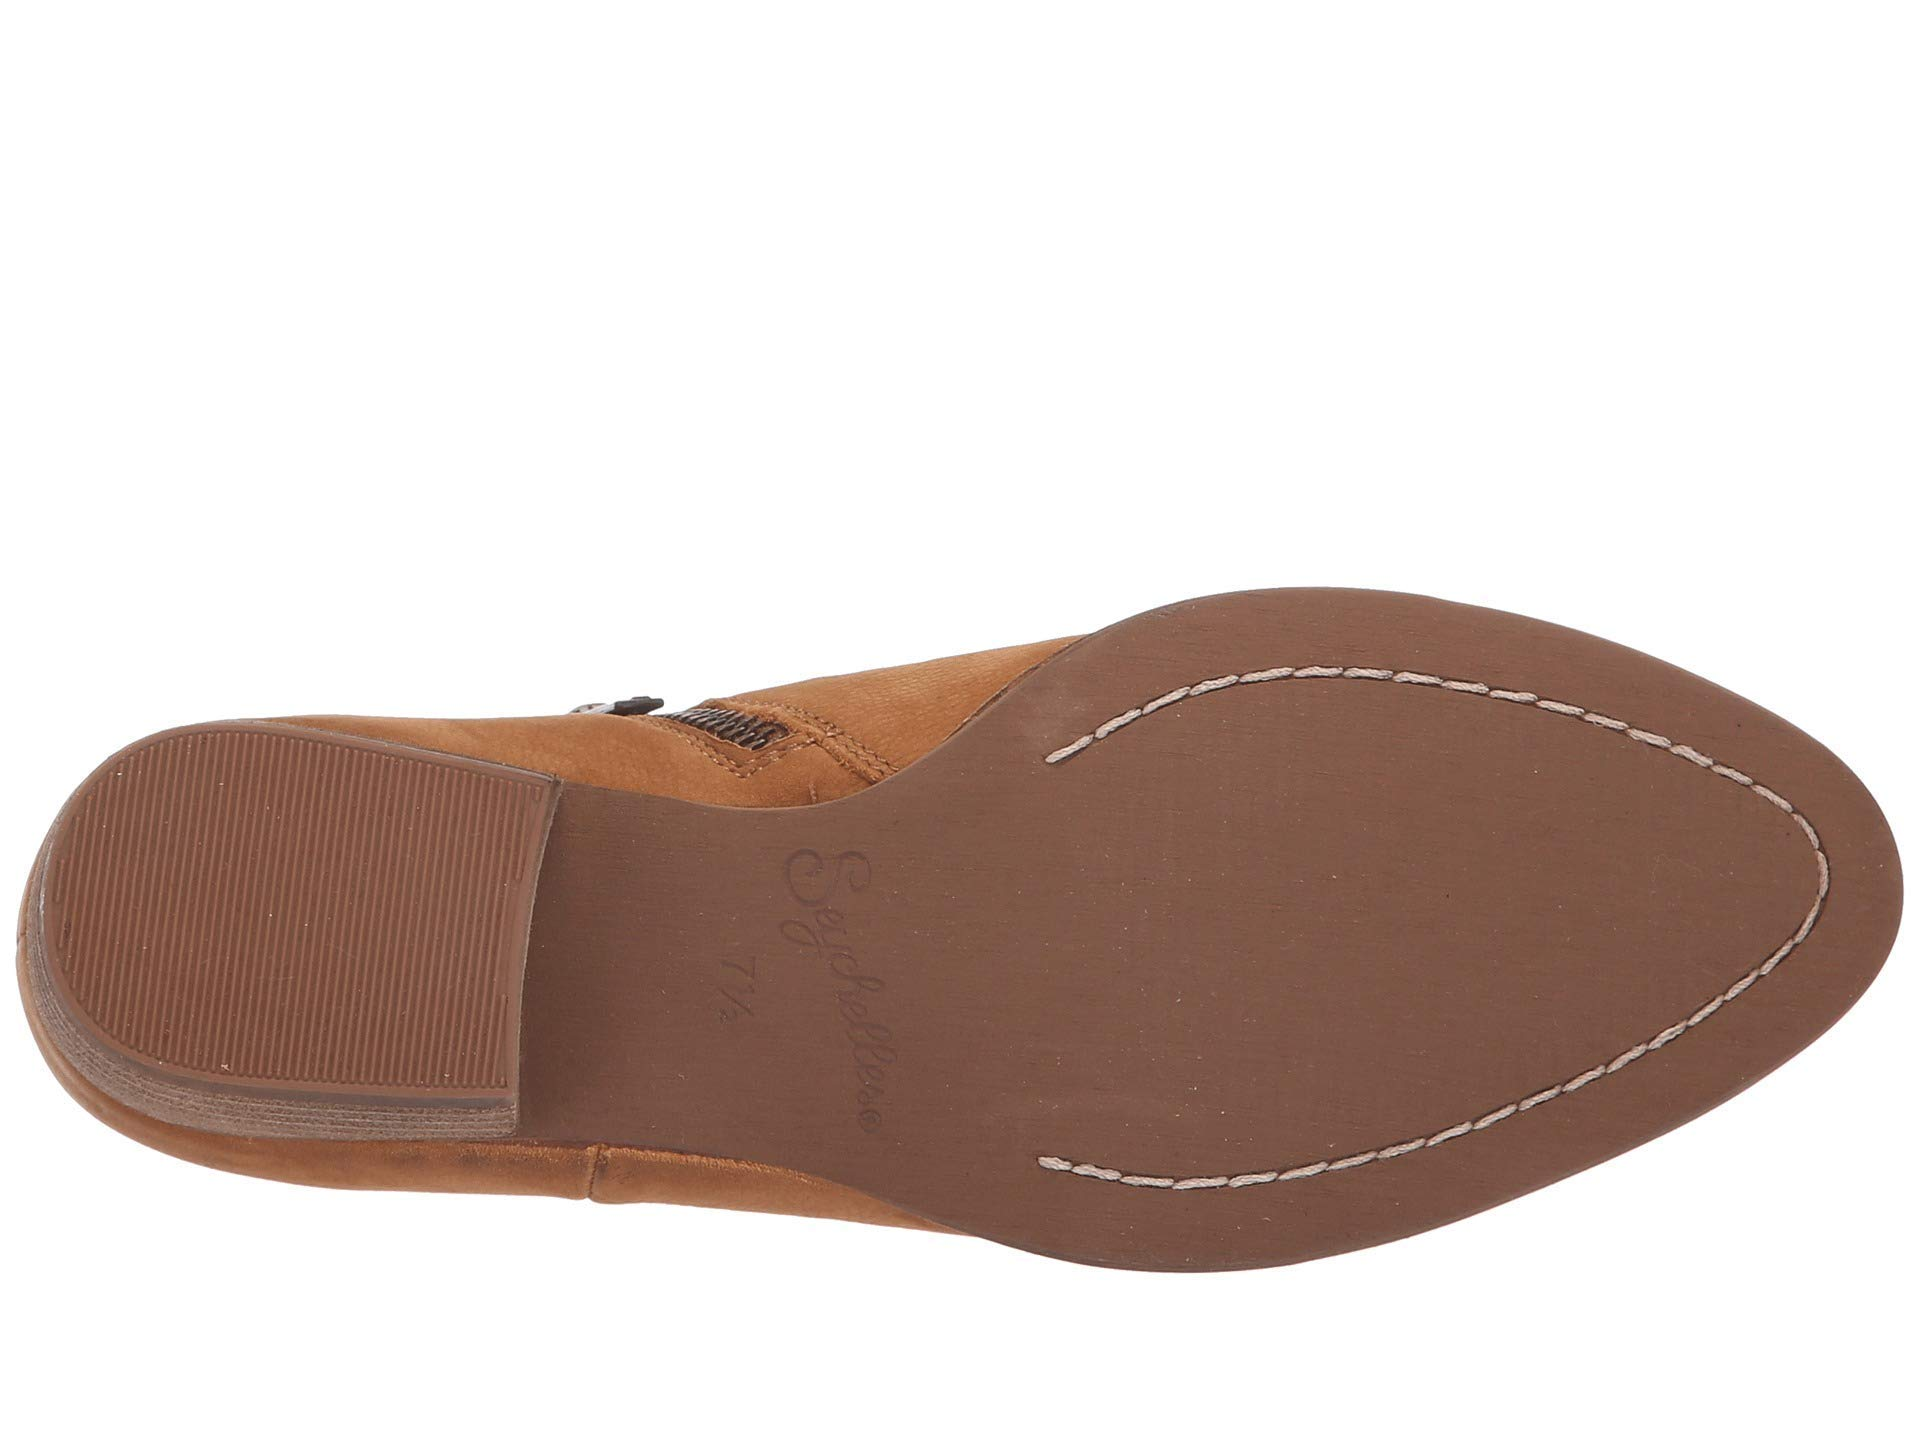circle: (692, 797, 977, 1165)
line: (1202, 616, 1779, 802), (171, 793, 482, 1033)
text: (692, 797, 977, 1165)
